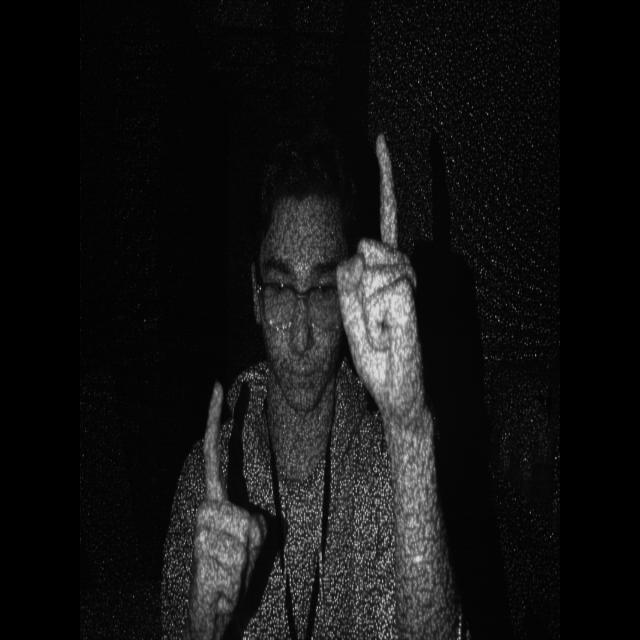STARS: (328, 118, 437, 482), (199, 357, 267, 640)
